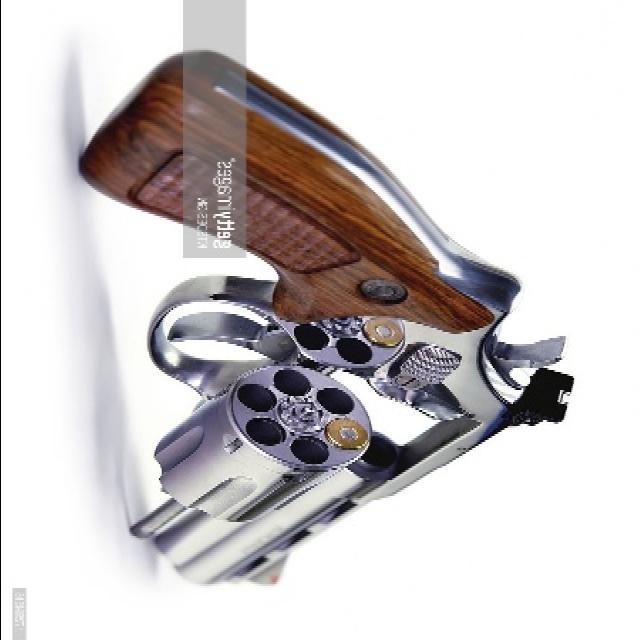handgun: (80, 47, 580, 589)
